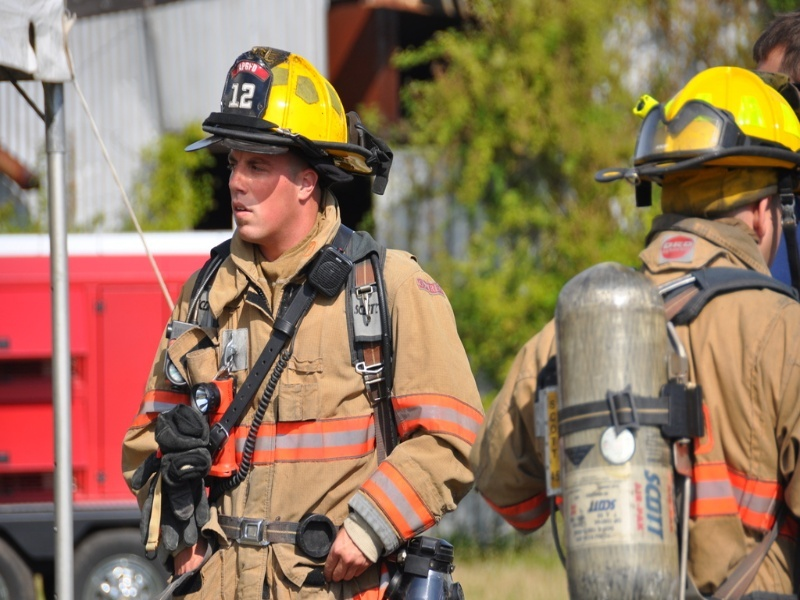baret: (630, 65, 795, 189), (207, 52, 355, 173)
